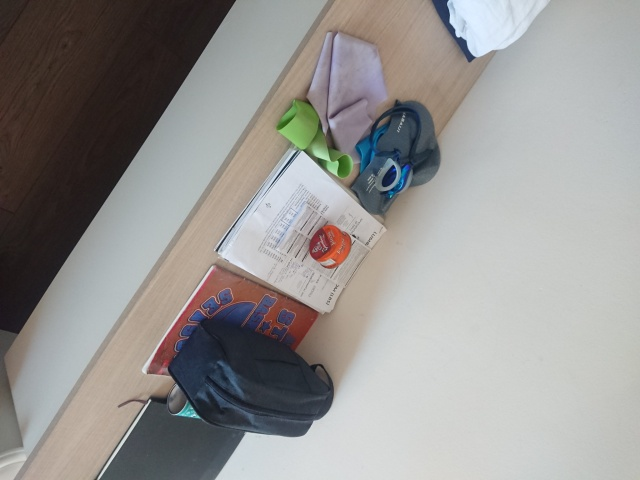Gavrilovic Pork Liver Pate 100g: (307, 223, 353, 270)
